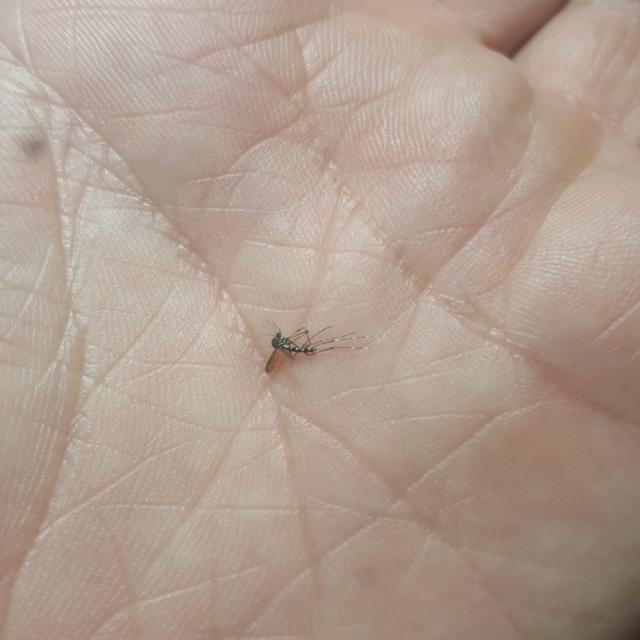albopictus: (256, 314, 380, 374)
